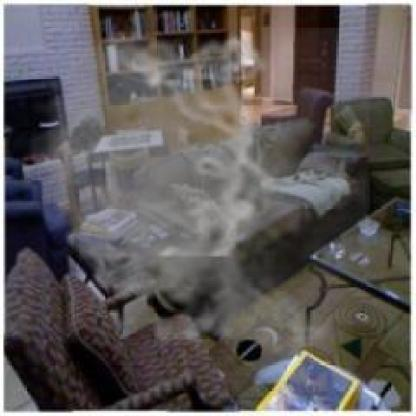Smoke: (15, 28, 370, 367)
